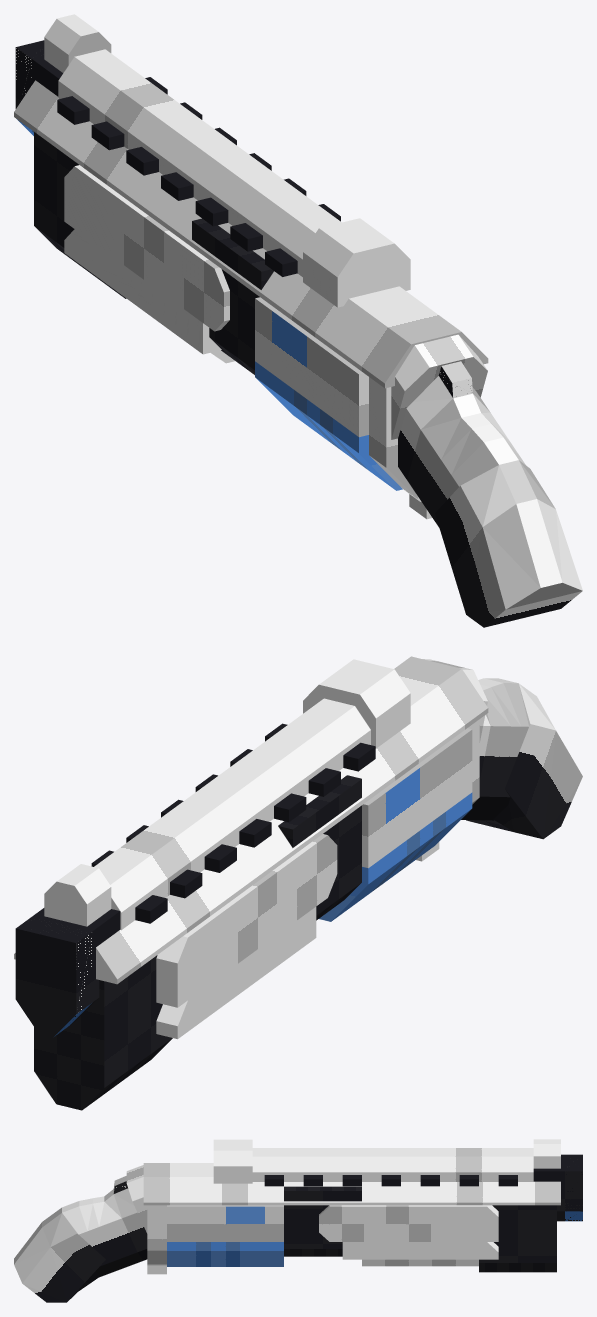
Rendered from AccelerationGun.obj.
3 renders of one model, top to bottom at view 1: azimuth 30°, elevation 25°; view 2: azimuth 150°, elevation 25°; view 3: azimuth 270°, elevation 25°, orthographic. The views are drawn at different scales.
Visible parts, largest first — view 1: cube.001; view 2: cube.001; view 3: cube.001.
Part boxes in pixels (left/top/right/bottom): cube.001: left=14, top=14, right=582, bottom=627; cube.001: left=14, top=656, right=582, bottom=1110; cube.001: left=14, top=1139, right=582, bottom=1302.
Bounding box in the file's own units: 0.1181 × 0.2661 × 0.9117.
